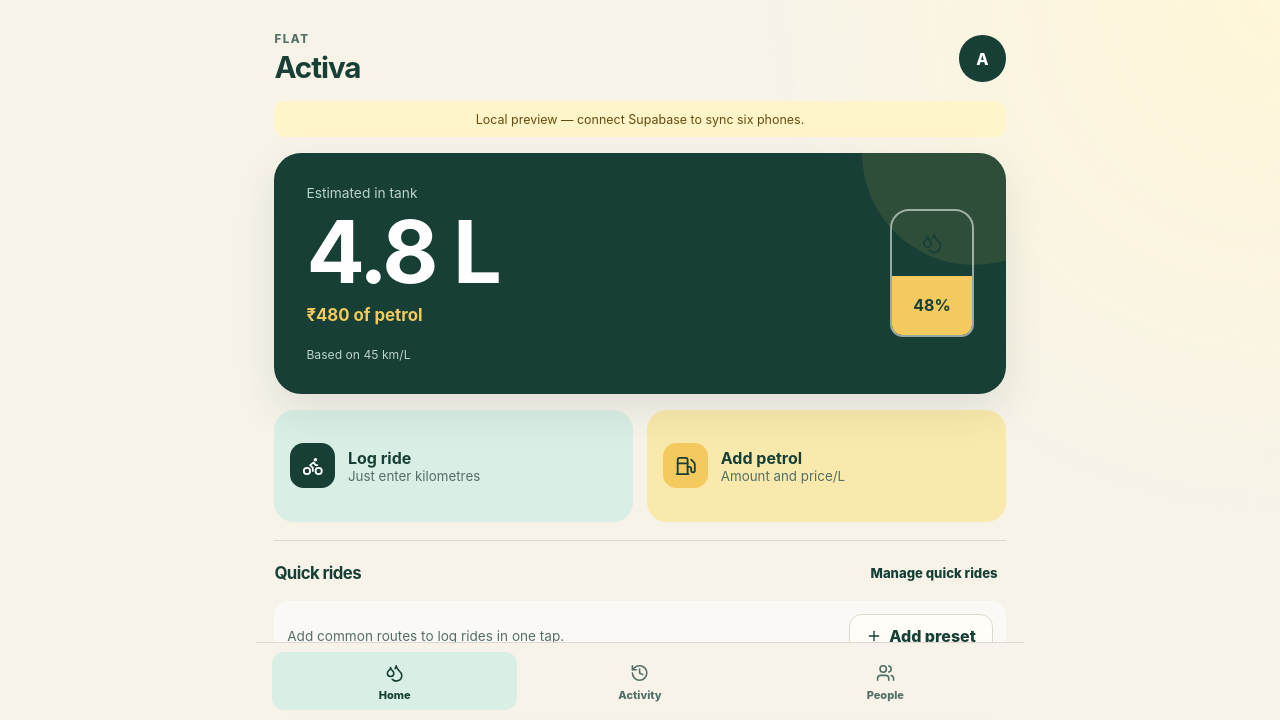
Test case: shared rides › renders legacy solo rides without a participant list
Step 1. Click the button "Activity" → {"x": 640, "y": 681}, box [517, 652, 763, 710]
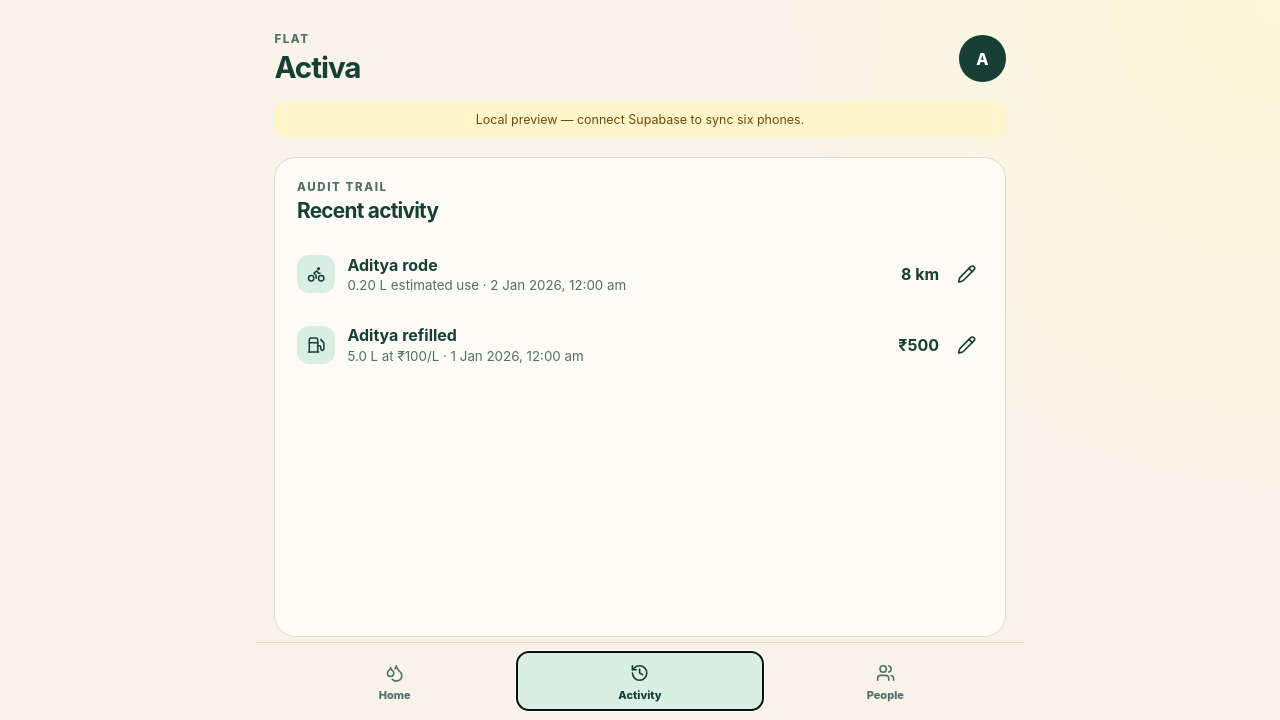
Expected: the text "Aditya rode" is shown, [347, 255, 438, 275]
Expected: the text "8 km" is shown, [901, 264, 939, 284]
